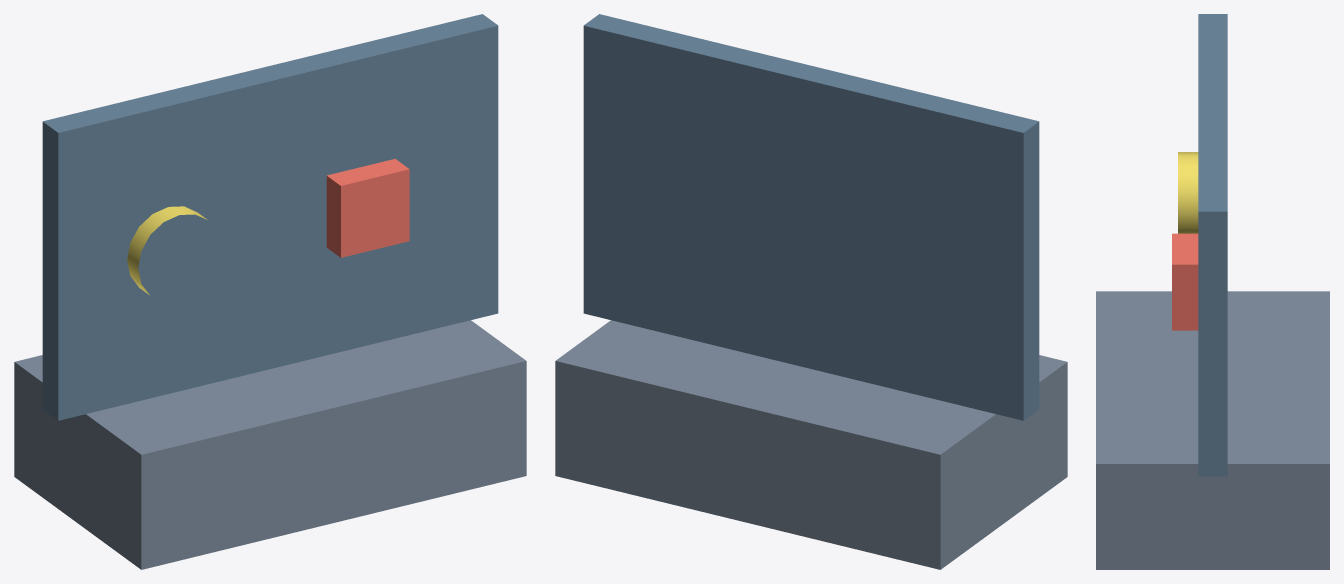
Rendered from cpm_pert_network_analysis.glb.
3 renders of one model, left to right at view 1: azimuth 30°, elevation 25°; view 2: azimuth 150°, elevation 25°; view 3: azimuth 270°, elevation 25°, orthographic. The views are drawn at different scales.
Parts seen in each view (by area): view 1: ProjectGanttChartBoard, PlanningDigitalWorkstation, CriticalPathMilestoneMarker, PERTActivityNodeNetwork; view 2: ProjectGanttChartBoard, PlanningDigitalWorkstation; view 3: PlanningDigitalWorkstation, ProjectGanttChartBoard, CriticalPathMilestoneMarker, PERTActivityNodeNetwork.
Boxes of the visible parts, bbox=[...] form: ProjectGanttChartBoard: bbox=[42, 14, 498, 420]; PlanningDigitalWorkstation: bbox=[14, 320, 526, 569]; CriticalPathMilestoneMarker: bbox=[326, 159, 409, 257]; PERTActivityNodeNetwork: bbox=[127, 206, 207, 295]; ProjectGanttChartBoard: bbox=[583, 14, 1039, 420]; PlanningDigitalWorkstation: bbox=[555, 320, 1067, 569]; PlanningDigitalWorkstation: bbox=[1096, 291, 1329, 569]; ProjectGanttChartBoard: bbox=[1198, 14, 1227, 476]; CriticalPathMilestoneMarker: bbox=[1172, 233, 1198, 330]; PERTActivityNodeNetwork: bbox=[1178, 152, 1198, 233].
Size of the model in its own units: 1.6 by 1.4 by 0.8.
